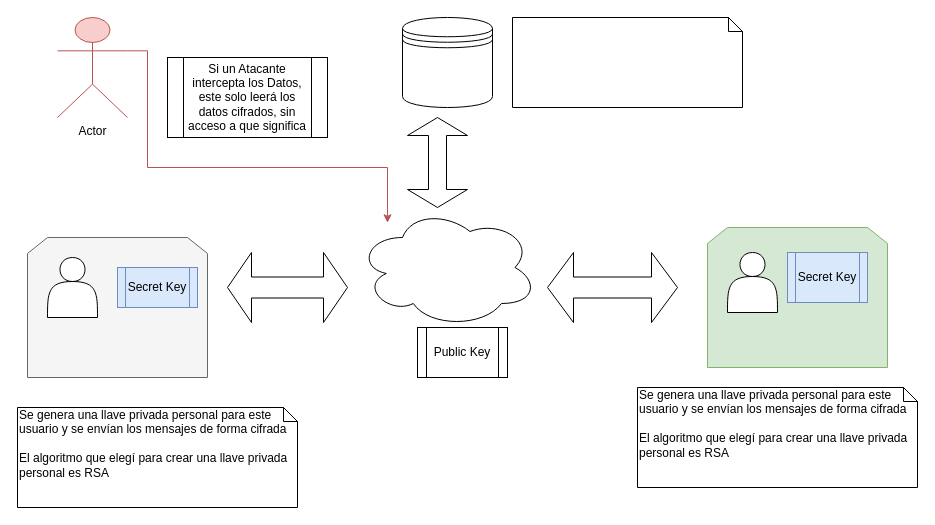
Image size: 935x525. Some labels were removed from this diagram. The centre of each missing label's shape, as x and y in pixels:
"CHAT APP" goes at [447,267].
"Solo se almacena: Nombre_Usuario Contraseña de ingreso (cifrada)" goes at [627,62].
